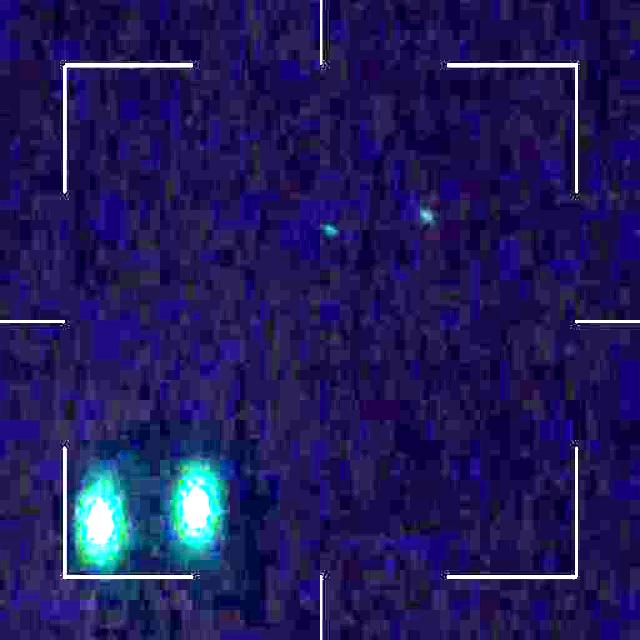bird: (82, 480, 212, 550)
